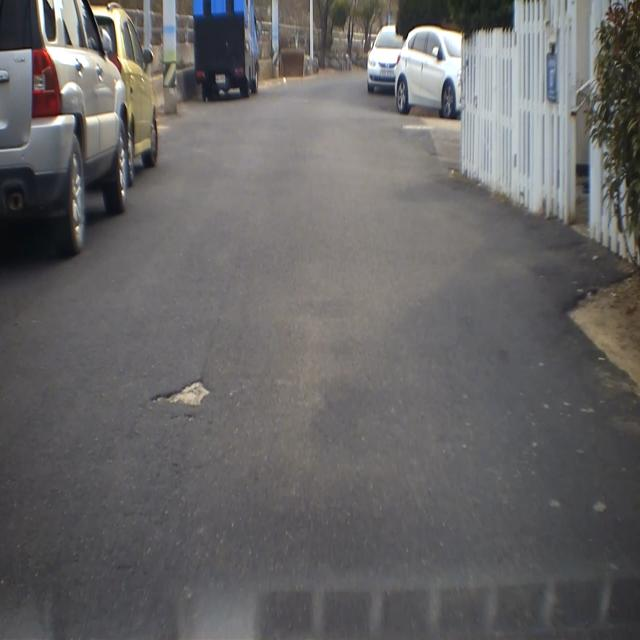Pothole: (140, 372, 217, 437)
